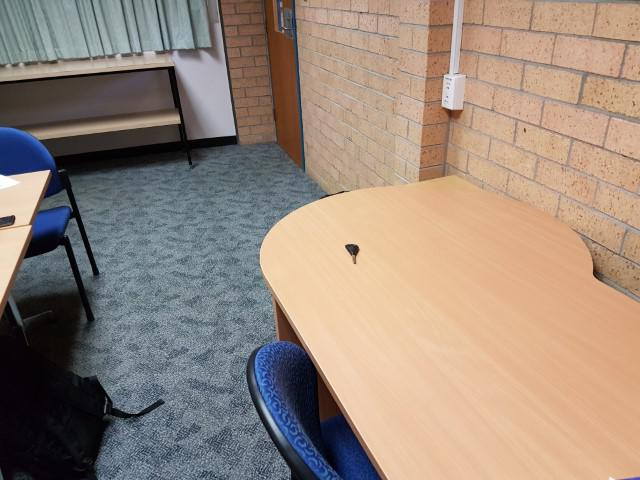key: (346, 244, 358, 264)
